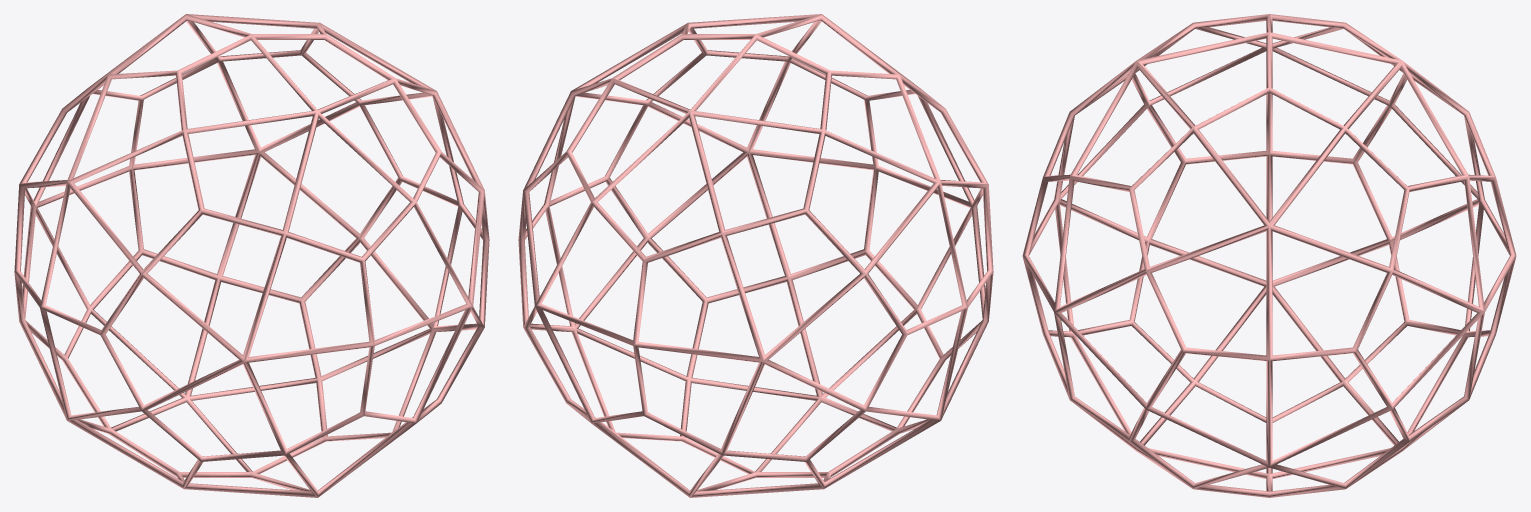
The model's file is DeltoidalHexecontahedron1.glb.
3 renders of one model, left to right at view 1: azimuth 30°, elevation 25°; view 2: azimuth 150°, elevation 25°; view 3: azimuth 270°, elevation 25°, orthographic.
Visible parts, largest first — view 1: DeltoidalHexecontahedron; view 2: DeltoidalHexecontahedron; view 3: DeltoidalHexecontahedron.
Boxes of the visible parts, left/top/right/bottom form: DeltoidalHexecontahedron: left=14, top=14, right=489, bottom=497; DeltoidalHexecontahedron: left=518, top=14, right=993, bottom=497; DeltoidalHexecontahedron: left=1022, top=14, right=1516, bottom=497.
Size of the model in its own units: 4.53 by 4.53 by 4.53.
